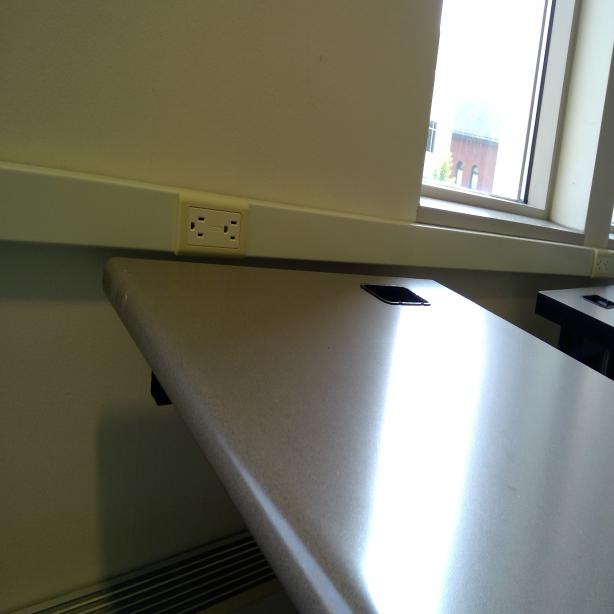typeb: (185, 208, 208, 246), (220, 214, 242, 248), (595, 254, 603, 275), (604, 256, 610, 276)
